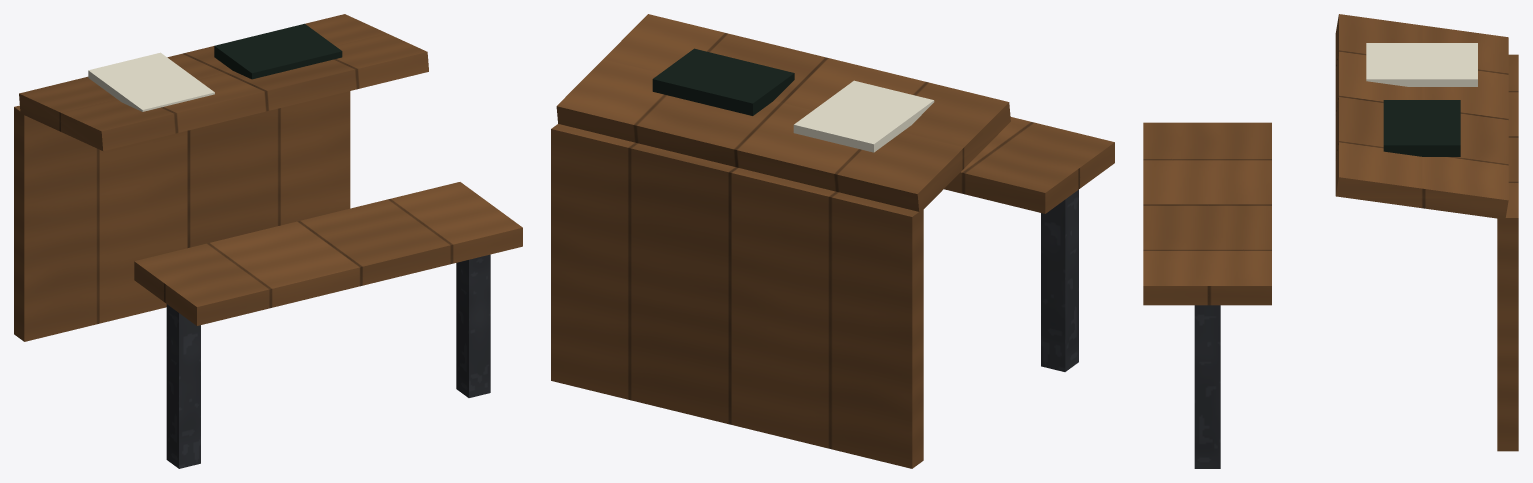
Rendered from lawka_szkolna.glb.
3 renders of one model, left to right at view 1: azimuth 30°, elevation 25°; view 2: azimuth 150°, elevation 25°; view 3: azimuth 270°, elevation 25°, orthographic. The views are drawn at different scales.
Visible parts, largest first — view 1: lawka_szkolna; view 2: lawka_szkolna; view 3: lawka_szkolna.
Part boxes in pixels (bbox=[...]): lawka_szkolna: bbox=[14, 14, 522, 468]; lawka_szkolna: bbox=[551, 14, 1114, 468]; lawka_szkolna: bbox=[1143, 14, 1518, 468].
Bounding box in the file's own units: 0.9 × 0.76 × 0.875.
Materials: 4 (2 with a texture image).
